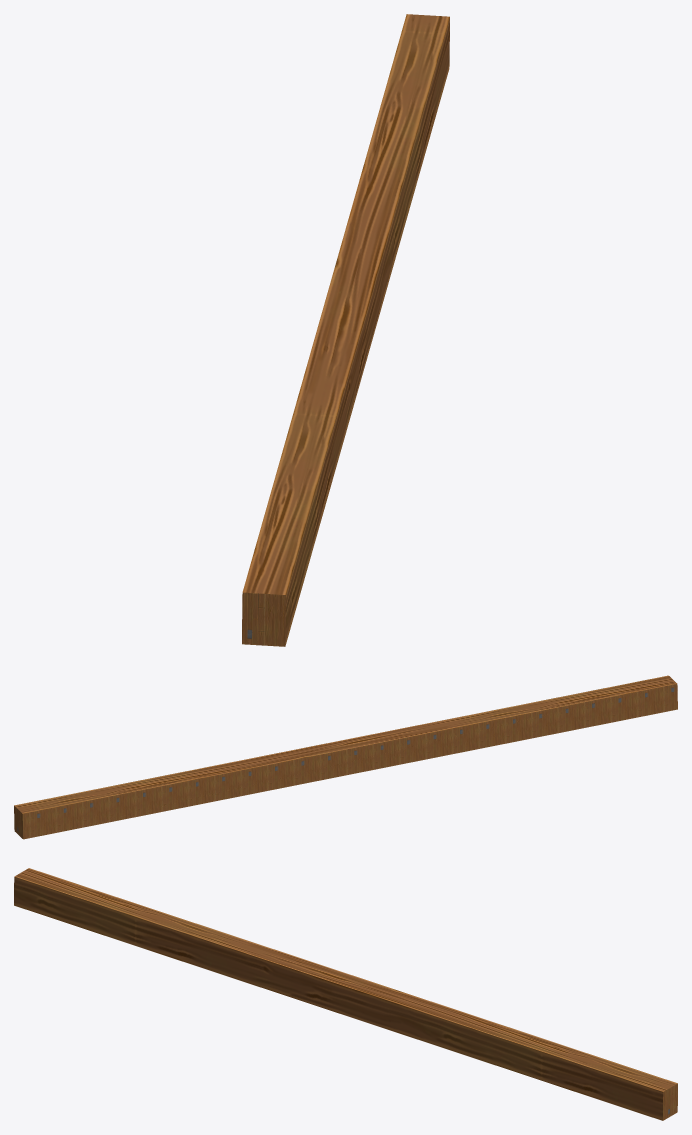
3 renders of one model, top to bottom at view 1: azimuth 30°, elevation 25°; view 2: azimuth 150°, elevation 25°; view 3: azimuth 270°, elevation 25°, orthographic. The views are drawn at different scales.
Visible parts, largest first — view 1: Cube.413; view 2: Cube.413; view 3: Cube.413.
Part boxes in pixels (x1,y1,x2,y2): Cube.413: [242, 14, 449, 646]; Cube.413: [14, 675, 677, 839]; Cube.413: [14, 868, 677, 1120].
Size of the model in its own units: 298 by 26.81 by 393.
Materials: 1 (1 with a texture image).
